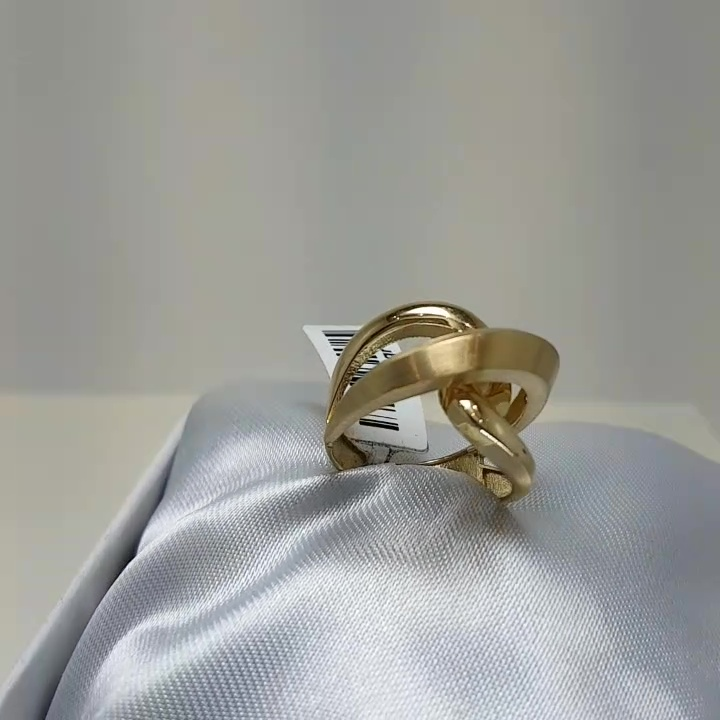Ring 3: (301, 276, 578, 522)
